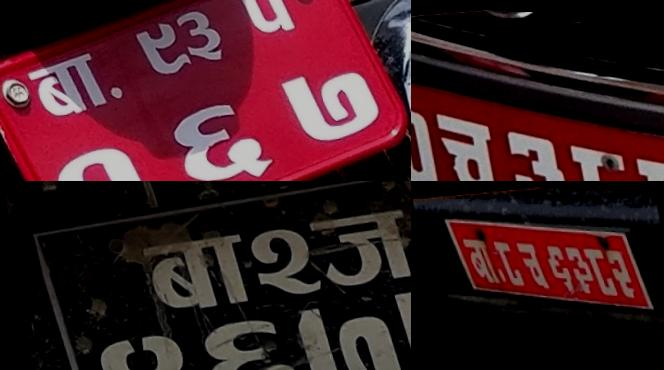0: (411, 95, 445, 181)
1: (35, 134, 157, 181)
2: (239, 215, 323, 303), (603, 242, 639, 298)
3: (495, 120, 576, 181), (170, 2, 232, 68), (563, 239, 595, 294)
4: (83, 320, 200, 370)
6: (151, 85, 277, 181), (188, 304, 309, 370), (542, 238, 575, 298)
7: (267, 54, 388, 143), (285, 291, 409, 370)
8: (556, 130, 646, 181), (579, 240, 618, 300), (492, 232, 526, 292)
9: (119, 12, 194, 83)
ba: (133, 226, 254, 318), (18, 45, 120, 125), (458, 231, 500, 291)
cha: (428, 97, 510, 181), (512, 235, 551, 294)
ja: (304, 201, 411, 292)
pa: (223, 0, 305, 45)
